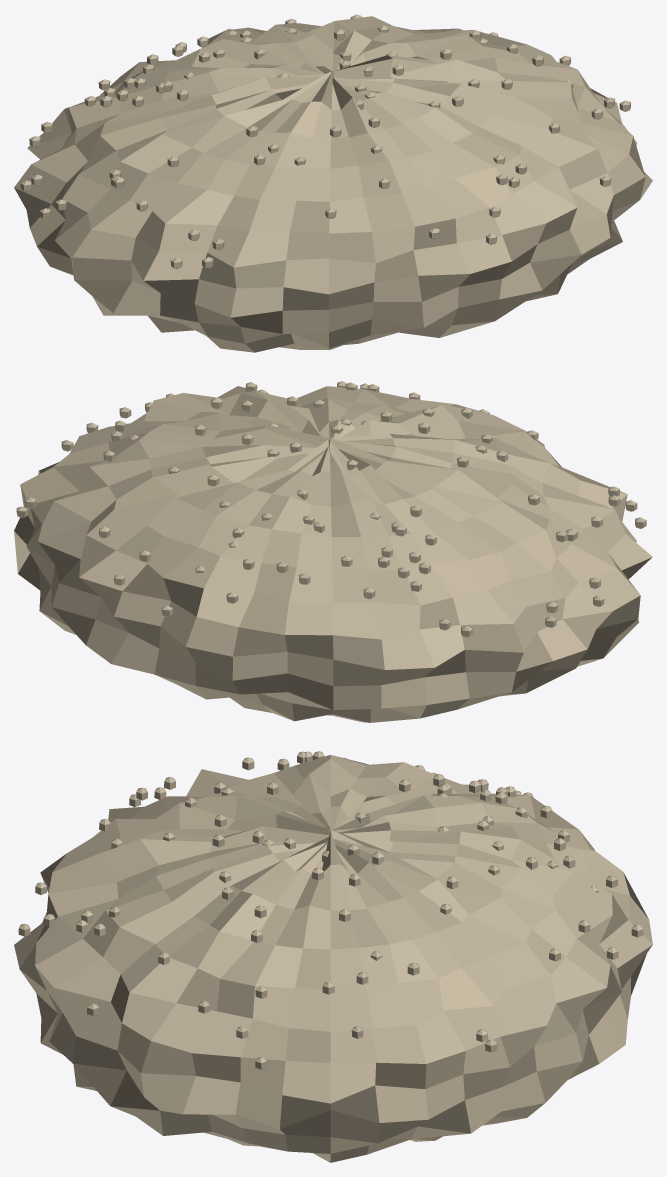
Rendered from Pectin.glb.
3 renders of one model, top to bottom at view 1: azimuth 30°, elevation 25°; view 2: azimuth 150°, elevation 25°; view 3: azimuth 270°, elevation 25°, orthographic. The views are drawn at different scales.
Visible parts, largest first — view 1: Pectin; view 2: Pectin; view 3: Pectin.
Boxes of the visible parts, box(x1,y1,x2,y2) form: Pectin: box(14, 14, 652, 352); Pectin: box(14, 381, 652, 722); Pectin: box(14, 751, 652, 1162).
Size of what is drawn, in the model's own units: 0.0731 by 0.0279 by 0.0624.
